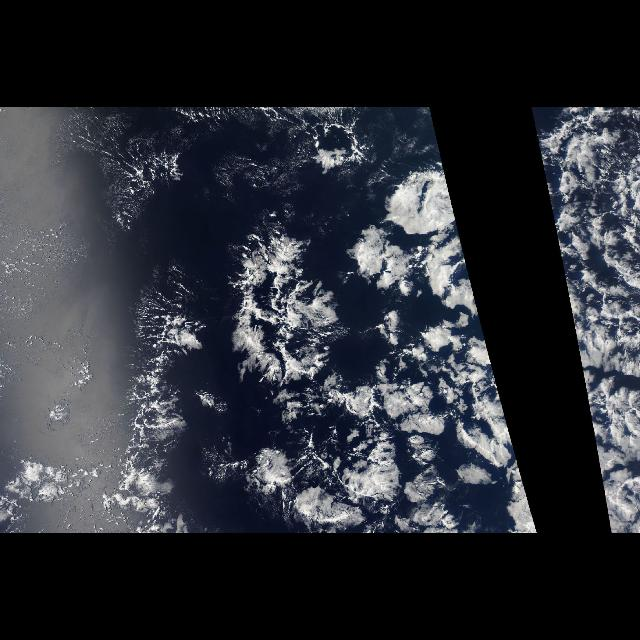Fish: (105, 270, 203, 530), (218, 218, 340, 400)
Flower: (225, 146, 527, 534), (538, 147, 640, 498)
Gravel: (82, 113, 205, 237)
Sugar: (62, 107, 294, 221)
